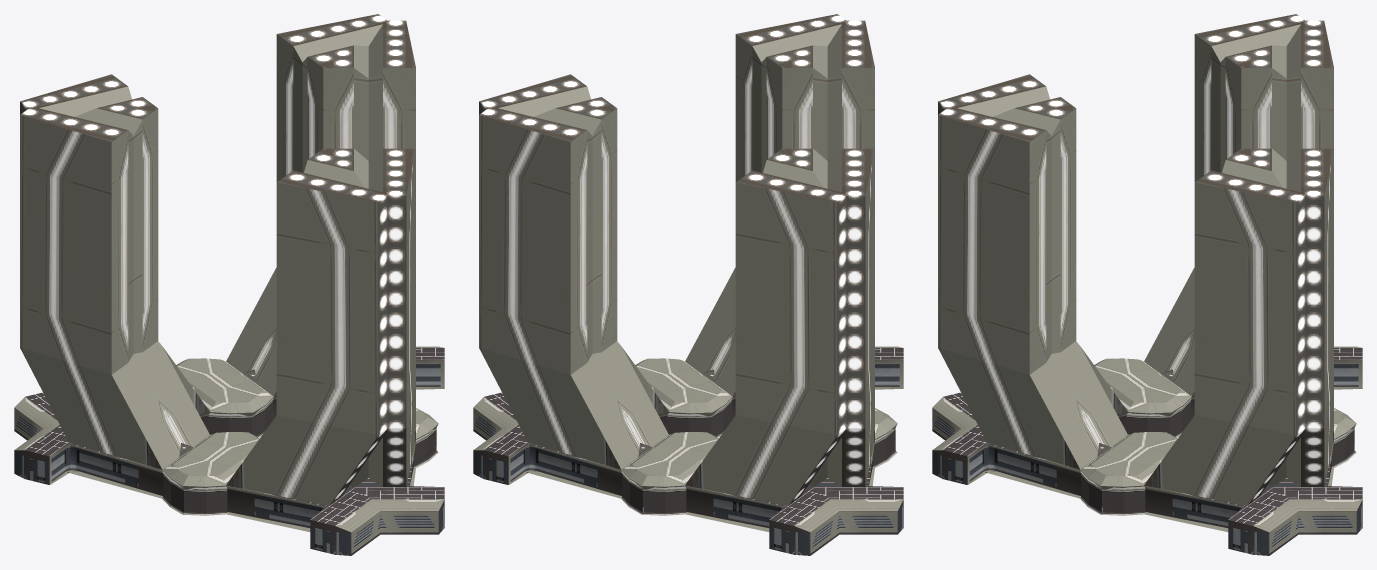
File: KF_SM_PreBuild3.fbx
The picture shows the model from 3 angles, left to right: view 1: azimuth 30°, elevation 25°; view 2: azimuth 150°, elevation 25°; view 3: azimuth 270°, elevation 25°; orthographic projection.
Visible parts, largest first — view 1: KF_SM_TripleB; view 2: KF_SM_TripleB; view 3: KF_SM_TripleB.
Boxes of the visible parts, bbox=[...] form: KF_SM_TripleB: bbox=[14, 14, 444, 555]; KF_SM_TripleB: bbox=[473, 14, 903, 555]; KF_SM_TripleB: bbox=[932, 14, 1362, 555].
Bounding box in the file's own units: 22648 × 17550 × 19883.
